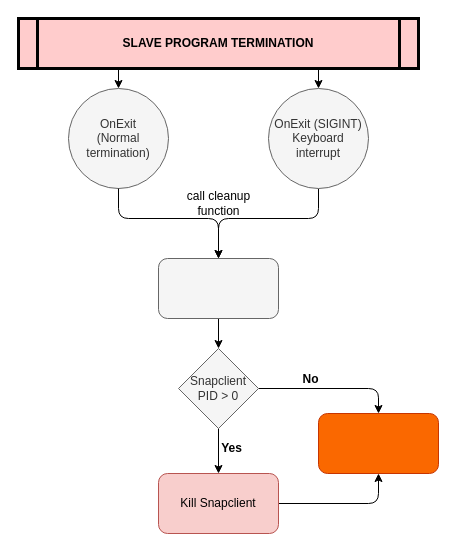
This 456x551 diagram has some shape labels left out. The shapes that lost their labels are listed below. From the top down, each one's box as (x1, y1, x2, y2) in pixels, then its label:
(158, 258, 278, 318): Disconnect MQTT, if (still) connected
(318, 412, 438, 474): Exit program
